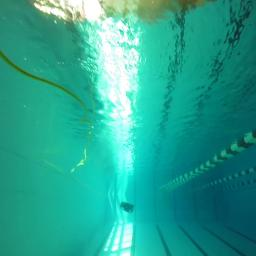Side: (120, 201, 134, 213)
